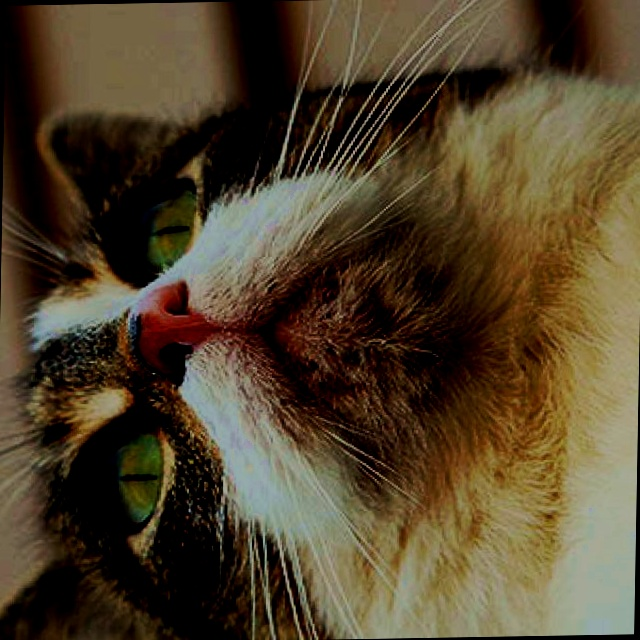acne: (309, 308, 456, 389)
